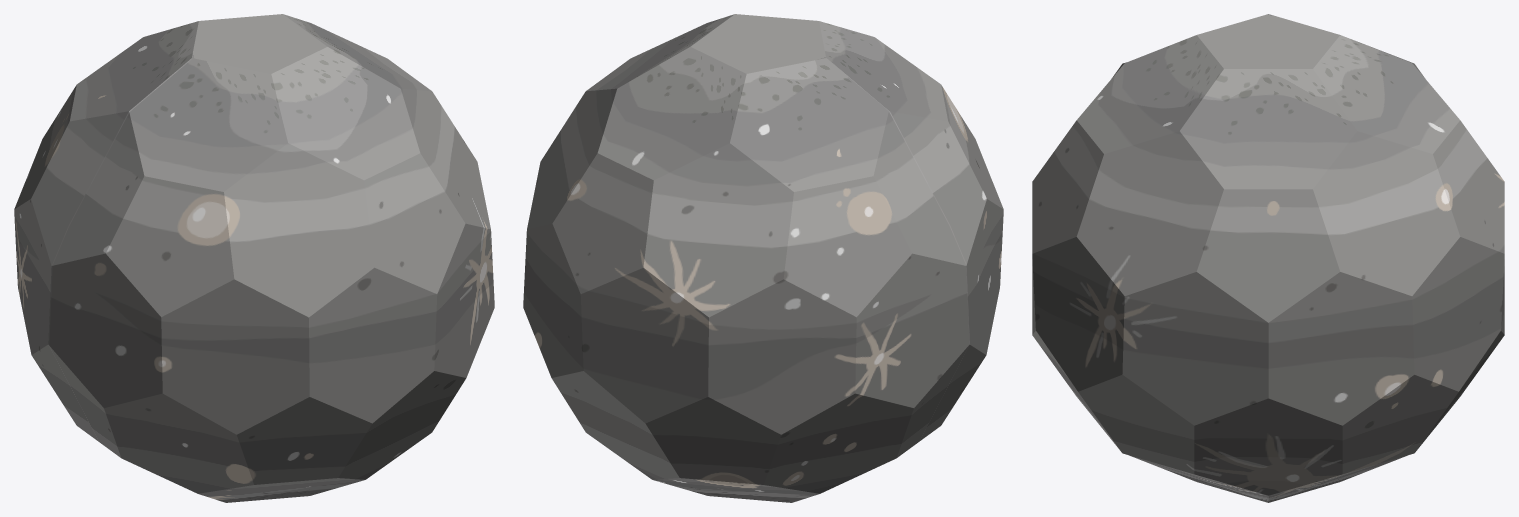
Rendered from mercury_tiles.glb.
3 views of the same model, side by side, from view 1: azimuth 30°, elevation 25°; view 2: azimuth 150°, elevation 25°; view 3: azimuth 270°, elevation 25° (orthographic).
Visible parts, largest first — view 1: Icosphere.024, Icosphere.013, Icosphere.017, Icosphere.008, Icosphere.009, Icosphere.016, Icosphere.040, Icosphere.023, Icosphere.039, Icosphere.029, Icosphere.035, Icosphere.012 (+9 smaller); view 2: Icosphere.022, Icosphere.010, Icosphere.018, Icosphere.015, Icosphere.014, Icosphere.019, Icosphere.041, Icosphere.023, Icosphere.042, Icosphere.028, Icosphere.037, Icosphere.011 (+9 smaller); view 3: Icosphere.007, Icosphere.026, Icosphere.021, Icosphere.025, Icosphere.020, Icosphere.043, Icosphere.004, Icosphere.011, Icosphere.012, Icosphere.016, Icosphere.019, Icosphere.034 (+8 smaller).
Boxes of the visible parts, x1,y1,x2,y2 form: Icosphere.024: (224, 143, 374, 317); Icosphere.013: (161, 279, 309, 434); Icosphere.017: (129, 58, 287, 191); Icosphere.008: (309, 267, 437, 423); Icosphere.009: (48, 253, 162, 407); Icosphere.016: (271, 47, 420, 180); Icosphere.040: (106, 176, 234, 317); Icosphere.023: (31, 111, 144, 265); Icosphere.039: (364, 153, 465, 293); Icosphere.029: (104, 393, 253, 493); Icosphere.035: (237, 397, 372, 484); Icosphere.012: (434, 223, 494, 377); Icosphere.022: (643, 143, 793, 317); Icosphere.010: (708, 279, 856, 434); Icosphere.018: (730, 58, 888, 191); Icosphere.015: (580, 267, 708, 423); Icosphere.014: (855, 253, 969, 407); Icosphere.019: (597, 47, 746, 180); Icosphere.041: (783, 176, 911, 317); Icosphere.023: (873, 111, 986, 265); Icosphere.042: (552, 153, 653, 293); Icosphere.028: (764, 393, 913, 493); Icosphere.037: (645, 397, 780, 484); Icosphere.011: (523, 223, 583, 377); Icosphere.007: (1122, 272, 1268, 425); Icosphere.026: (1268, 272, 1414, 425); Icosphere.021: (1313, 131, 1460, 295); Icosphere.025: (1076, 131, 1223, 295); Icosphere.020: (1180, 69, 1356, 189); Icosphere.043: (1196, 189, 1340, 322); Icosphere.004: (1194, 398, 1342, 495); Icosphere.011: (1412, 237, 1504, 391); Icosphere.012: (1032, 237, 1124, 391); Icosphere.016: (1077, 35, 1223, 153); Icosphere.019: (1313, 35, 1459, 153); Icosphere.034: (1078, 375, 1194, 474).
Bounding box in the file's own units: 4.88 × 4.88 × 4.88.
1 material, 1 textured.
